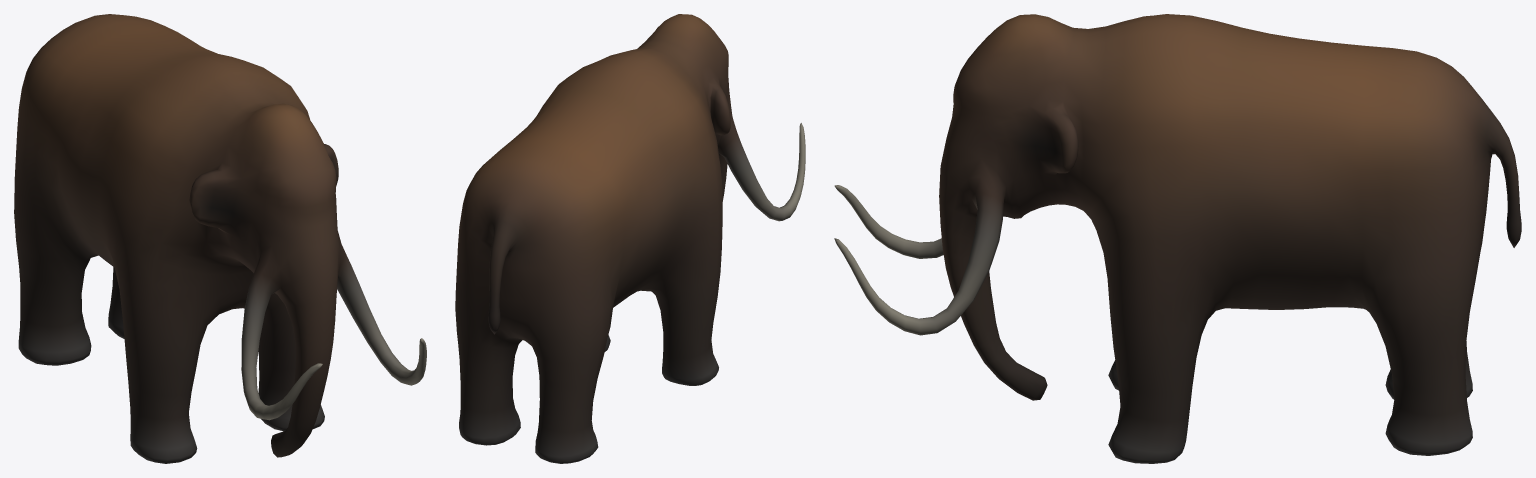
File: elephant.glb
The picture shows the model from 3 angles, left to right: view 1: azimuth 30°, elevation 25°; view 2: azimuth 150°, elevation 25°; view 3: azimuth 270°, elevation 25°; orthographic projection. The views are drawn at different scales.
Parts seen in each view (by area): view 1: elephant; view 2: elephant; view 3: elephant.
Part boxes in pixels (x1=…): elephant: x1=14, y1=14, x2=426, y2=463; elephant: x1=455, y1=14, x2=805, y2=463; elephant: x1=834, y1=14, x2=1521, y2=463.
Size of the model in its own units: 1.38 by 2.45 by 3.79.
